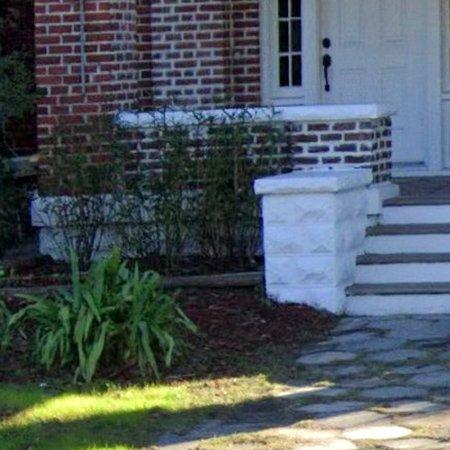stairs: (348, 178, 450, 315)
